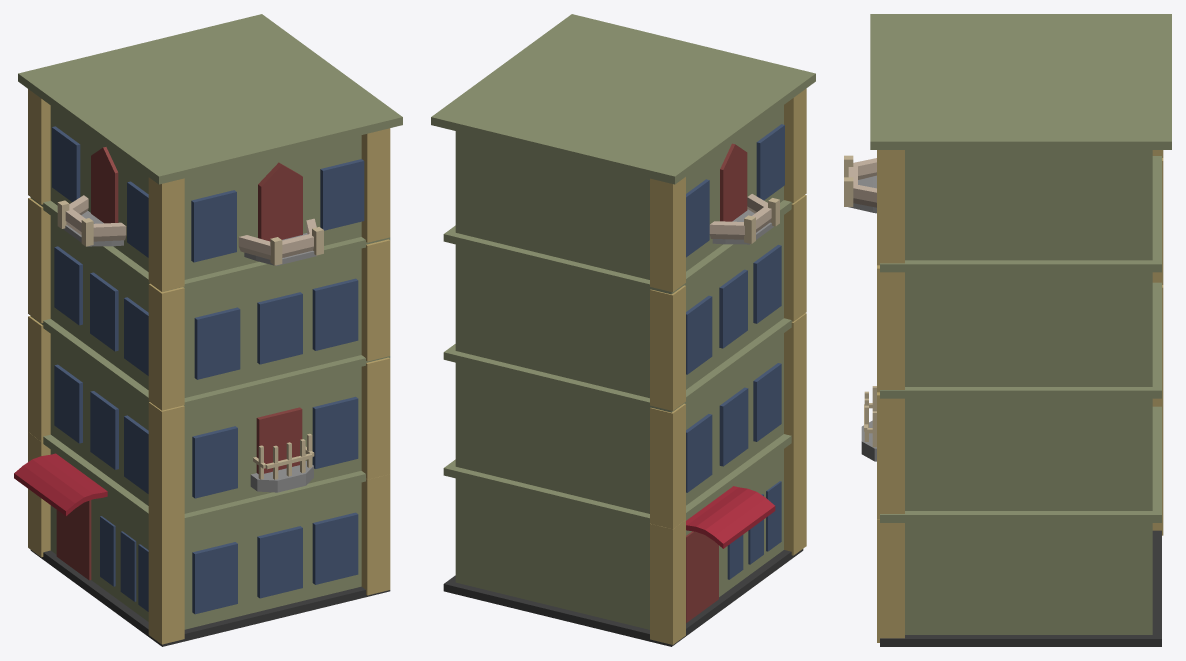
Rendered from block3.fbx.
3 renders of one model, left to right at view 1: azimuth 30°, elevation 25°; view 2: azimuth 150°, elevation 25°; view 3: azimuth 270°, elevation 25°, orthographic. The views are drawn at different scales.
Parts seen in each view (by area): view 1: Block2.002, Block1, Block2.001, Block2, Block2.005, Block2.004, Block2.003, Ground; view 2: Block2.002, Block1, Block2, Block2.001, Ground, Block2.003; view 3: Block2.002, Block2.001, Block1, Block2, Ground, Block2.005, Block2.004.
Part boxes in pixels (x1=…): Block2.002: x1=18, y1=14, x2=402, y2=291; Block1: x1=14, y1=432, x2=390, y2=644; Block2.001: x1=28, y1=197, x2=390, y2=410; Block2: x1=28, y1=315, x2=390, y2=528; Block2.005: x1=238, y1=162, x2=323, y2=265; Block2.004: x1=250, y1=407, x2=314, y2=492; Block2.003: x1=57, y1=147, x2=126, y2=246; Ground: x1=30, y1=550, x2=390, y2=646; Block2.002: x1=431, y1=14, x2=815, y2=292; Block1: x1=443, y1=429, x2=806, y2=644; Block2: x1=443, y1=313, x2=806, y2=529; Block2.001: x1=443, y1=195, x2=806, y2=410; Ground: x1=443, y1=549, x2=803, y2=646; Block2.003: x1=709, y1=143, x2=779, y2=244; Block2.002: x1=870, y1=14, x2=1171, y2=265; Block2.001: x1=877, y1=156, x2=1163, y2=392; Block1: x1=877, y1=406, x2=1163, y2=642; Block2: x1=877, y1=282, x2=1163, y2=518; Ground: x1=880, y1=530, x2=1161, y2=646; Block2.005: x1=844, y1=155, x2=876, y2=213; Block2.004: x1=861, y1=386, x2=876, y2=461.
Bounding box in the file's own units: 254 × 427 × 249.
